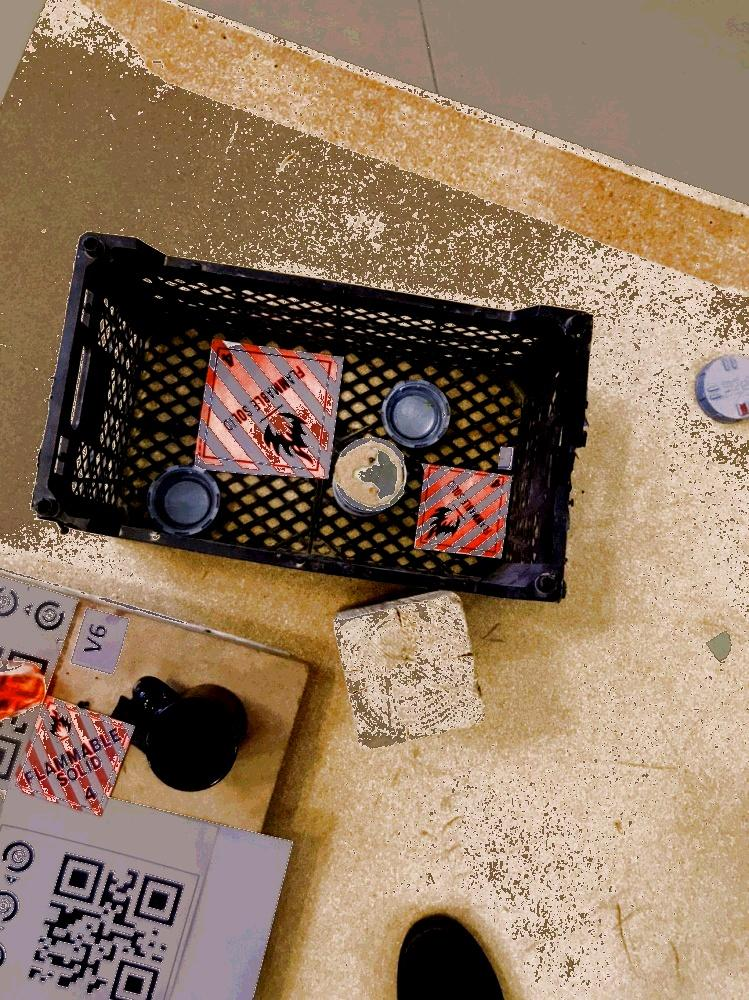flammable-solid: (191, 335, 345, 485), (9, 694, 138, 818), (410, 464, 515, 557)
